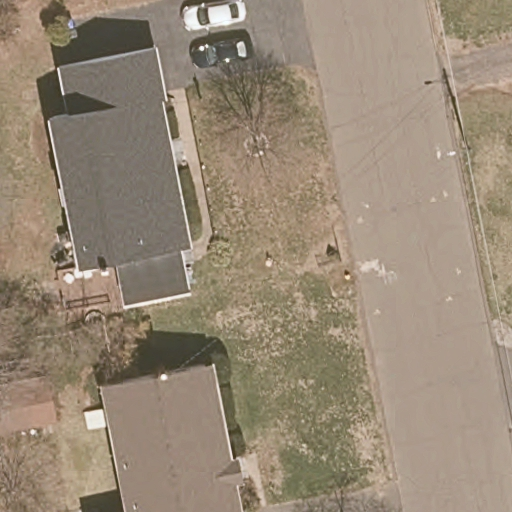DT: (434, 131, 472, 159)
